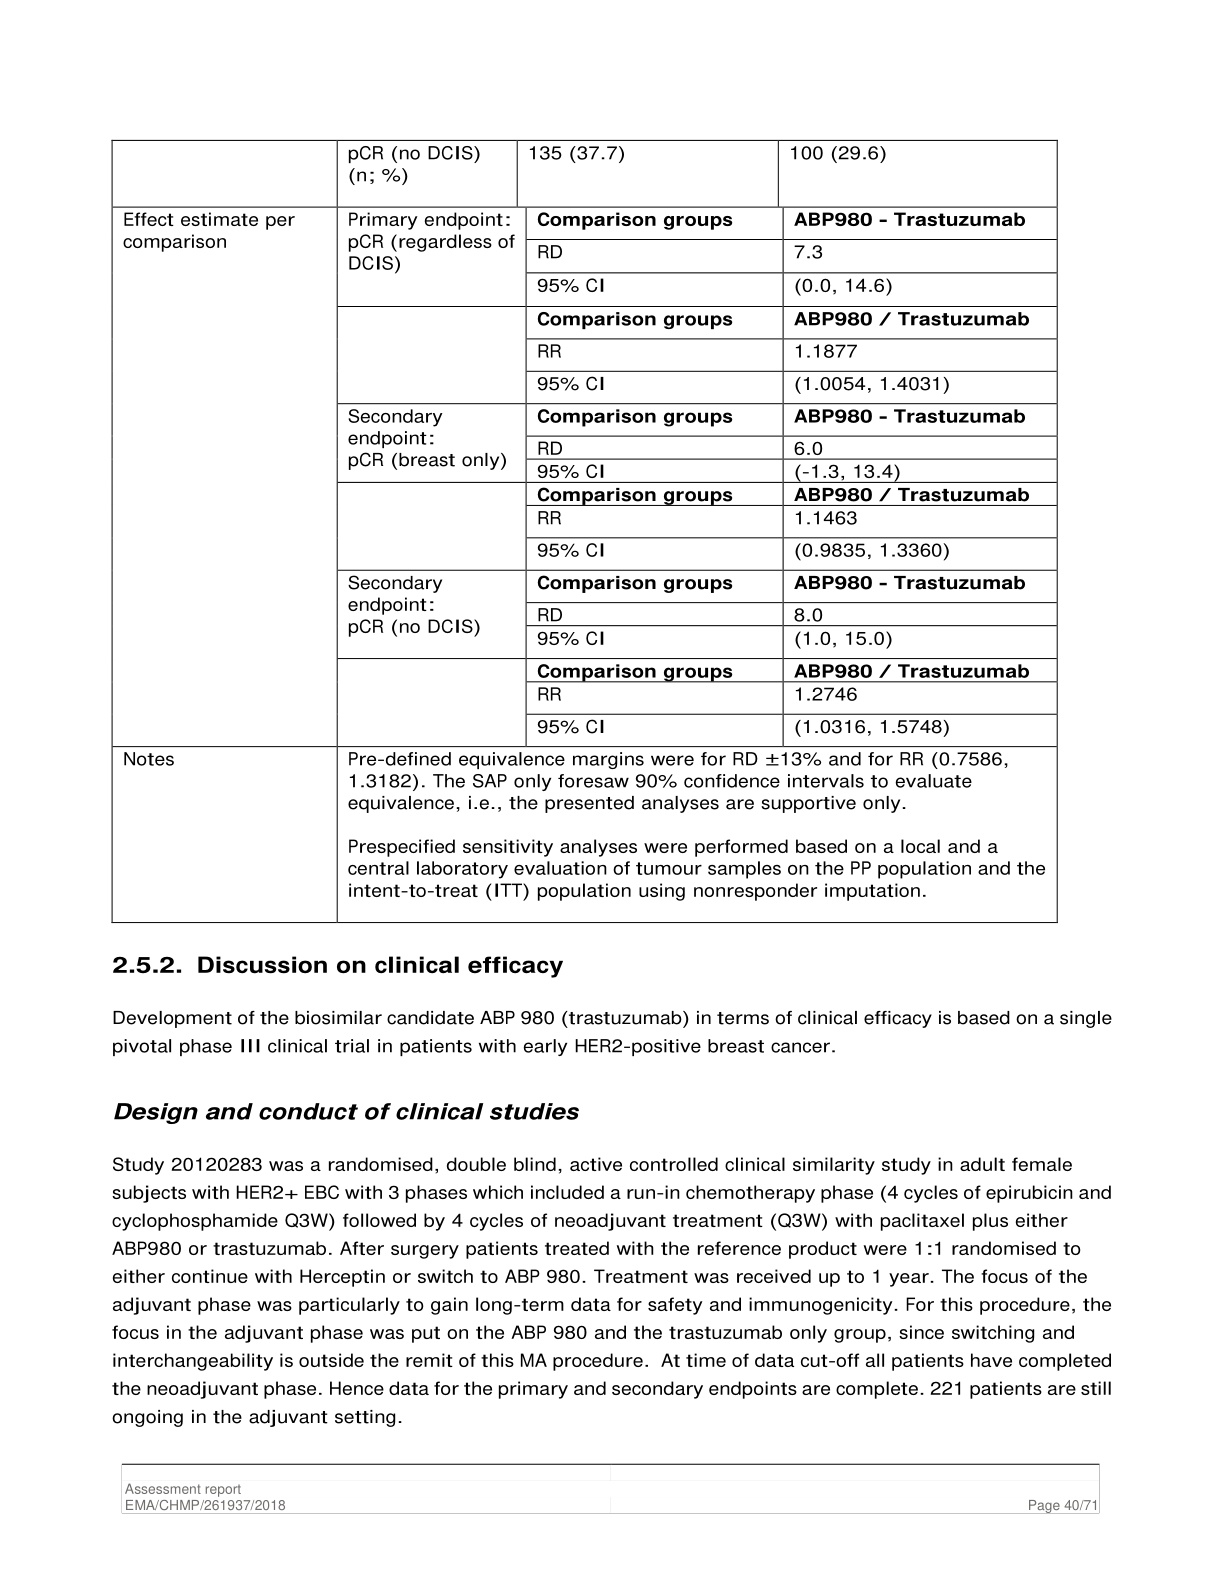merged_cells: (111, 139, 1059, 924)
